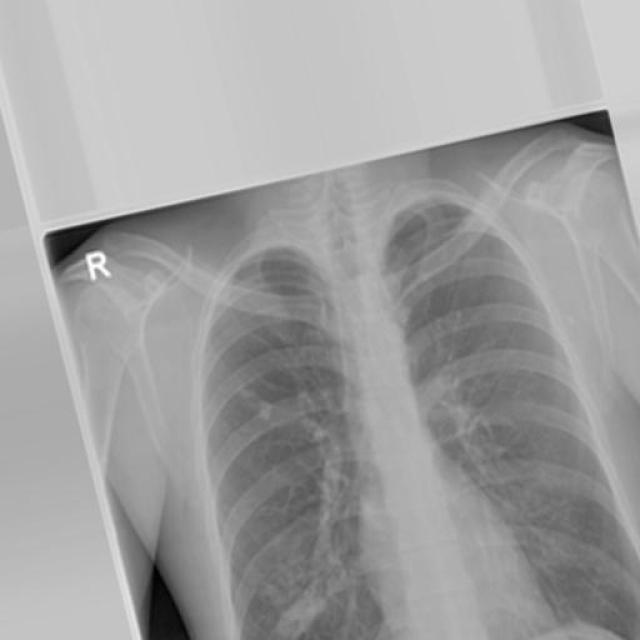tuberculosis: (35, 103, 640, 640)
